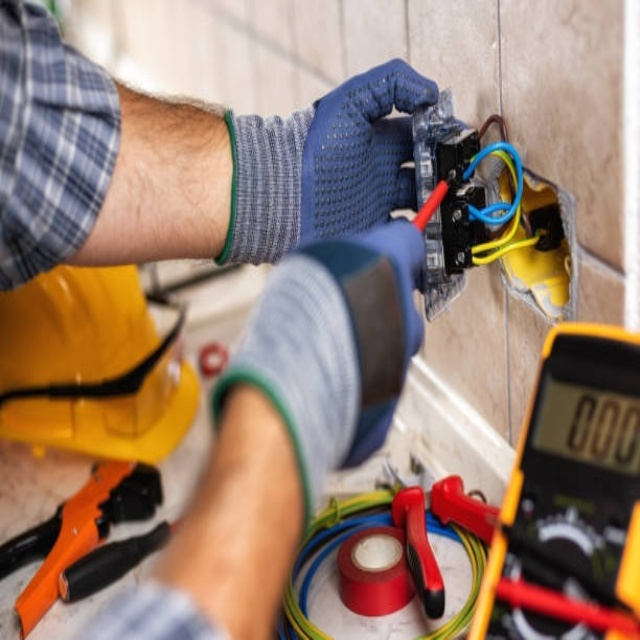Guantes: (213, 229, 429, 526), (217, 55, 454, 271)
